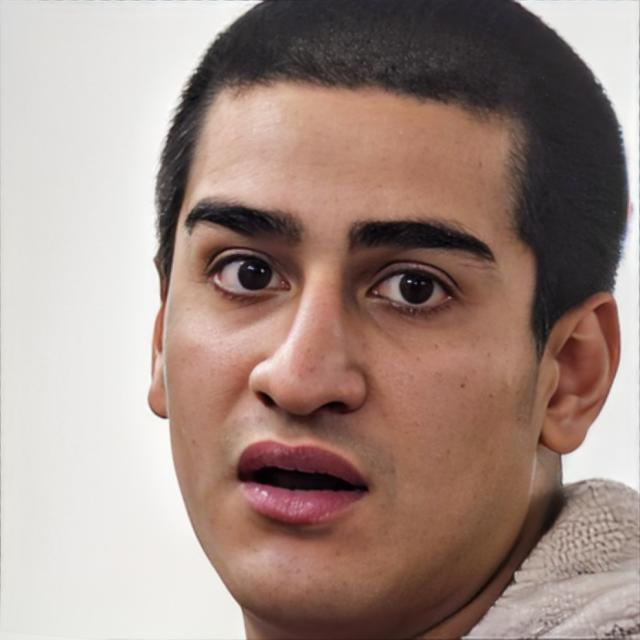surprise: (162, 67, 540, 617)
